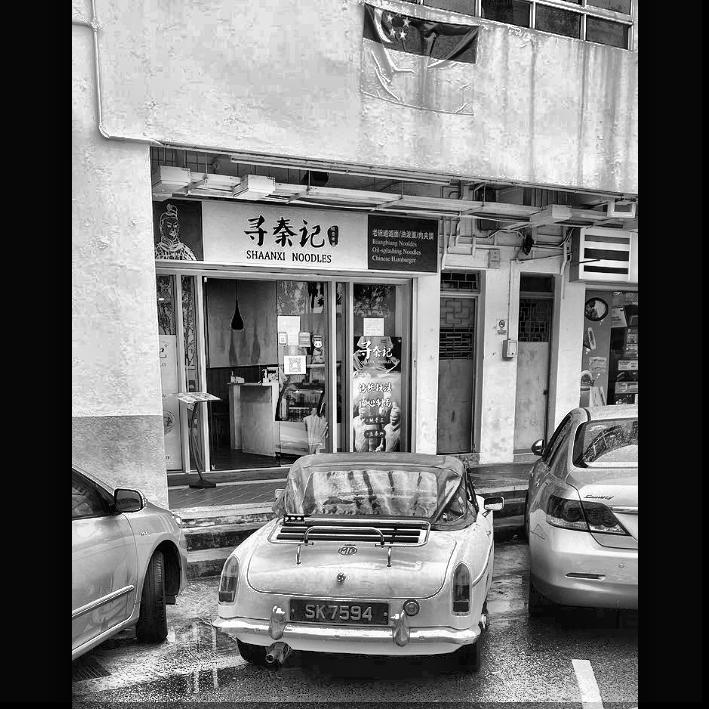License-Plates: (289, 599, 388, 624)
